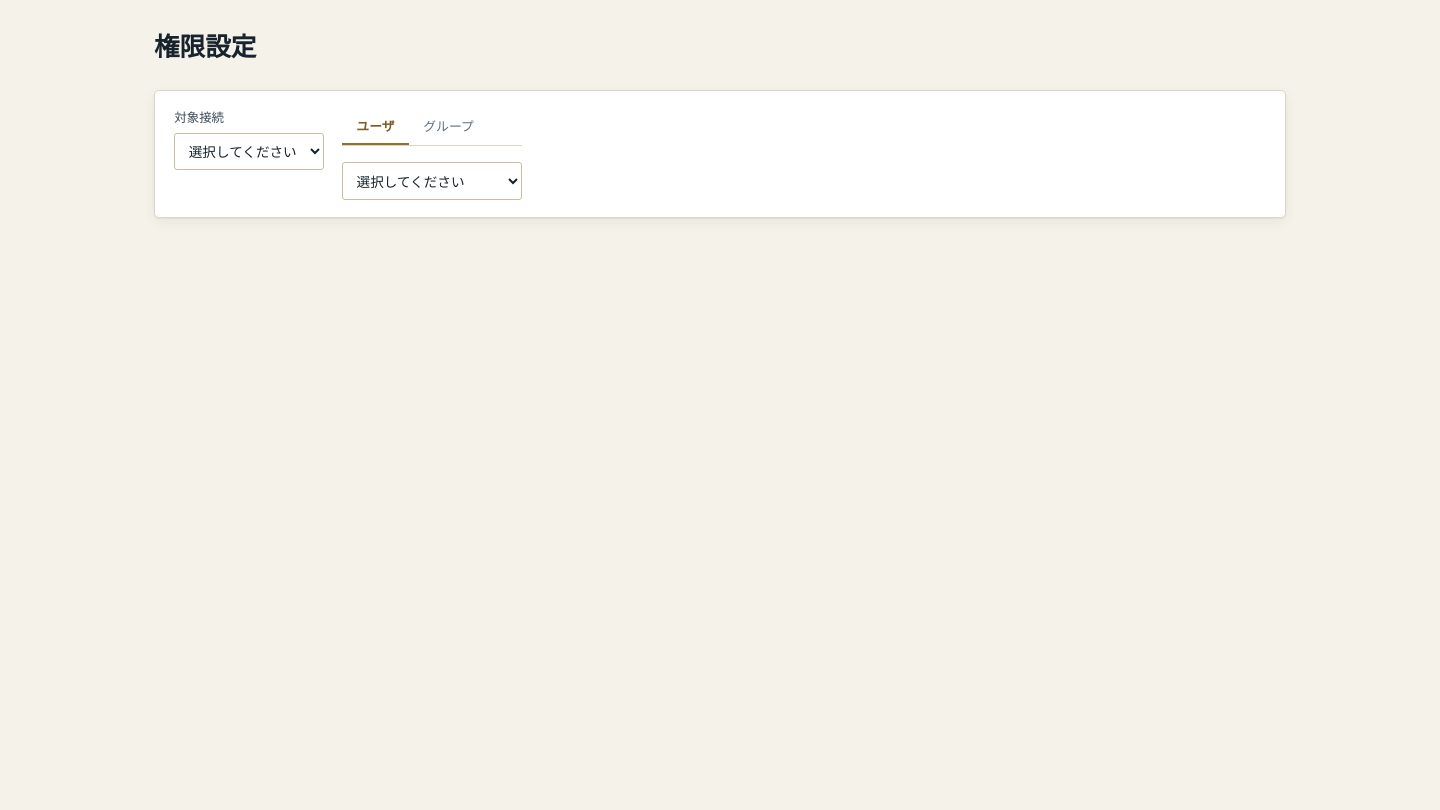
Test: PermissionAssignmentPage › fetches and displays the current permission for the selected principal and node
The image size is (1440, 810).
Select "conn-1" in the dropdown with test id "connection-selector-select" at (249, 152), box [174,133,324,170]
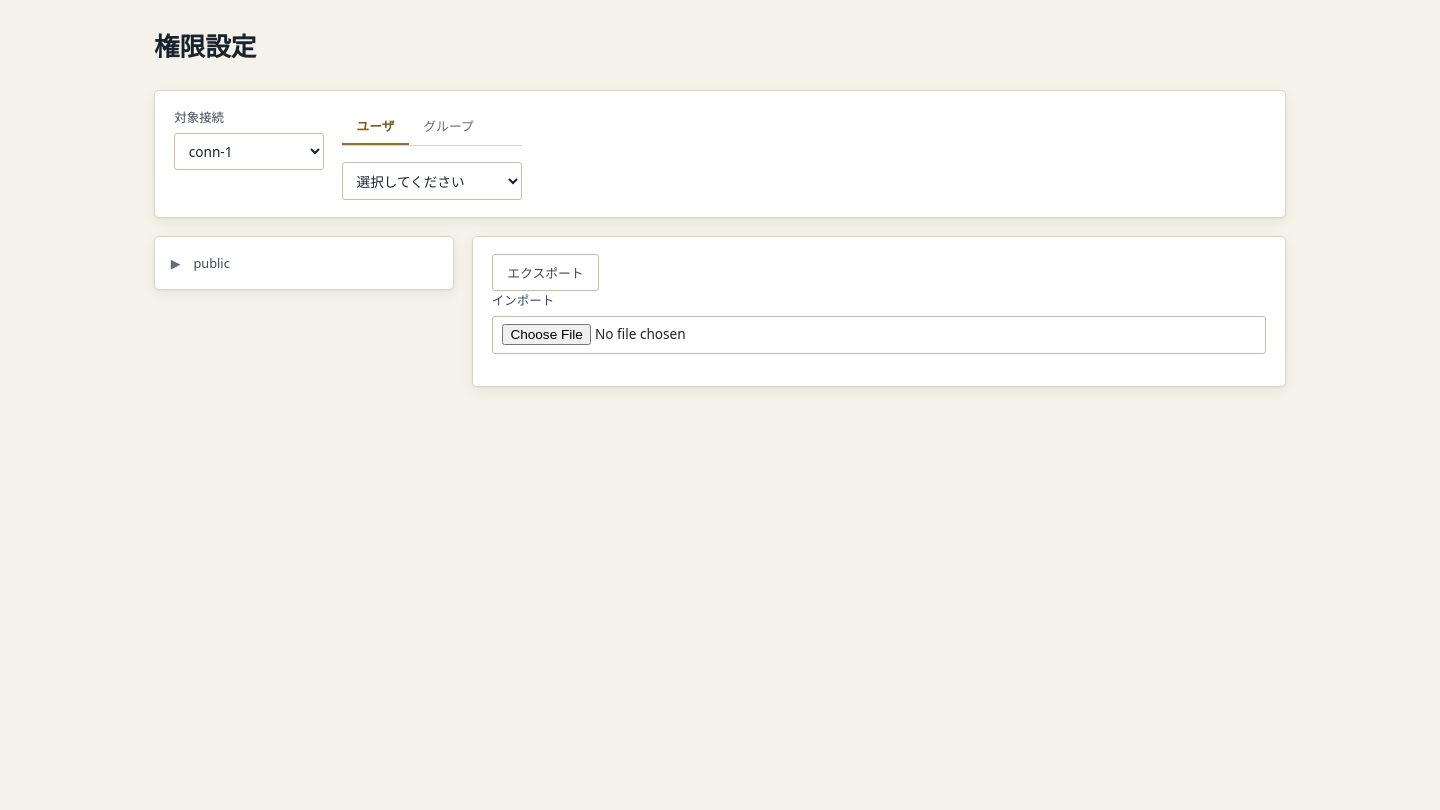
Expected: the list with test id "permission-tree" is shown, [154,236,454,290]
Expected: the button "public" is shown, [187,250,236,277]
Select "user-7@example.com" in the dropdown with test id "principal-selector-user-select" at (432, 181), box [342,162,522,200]
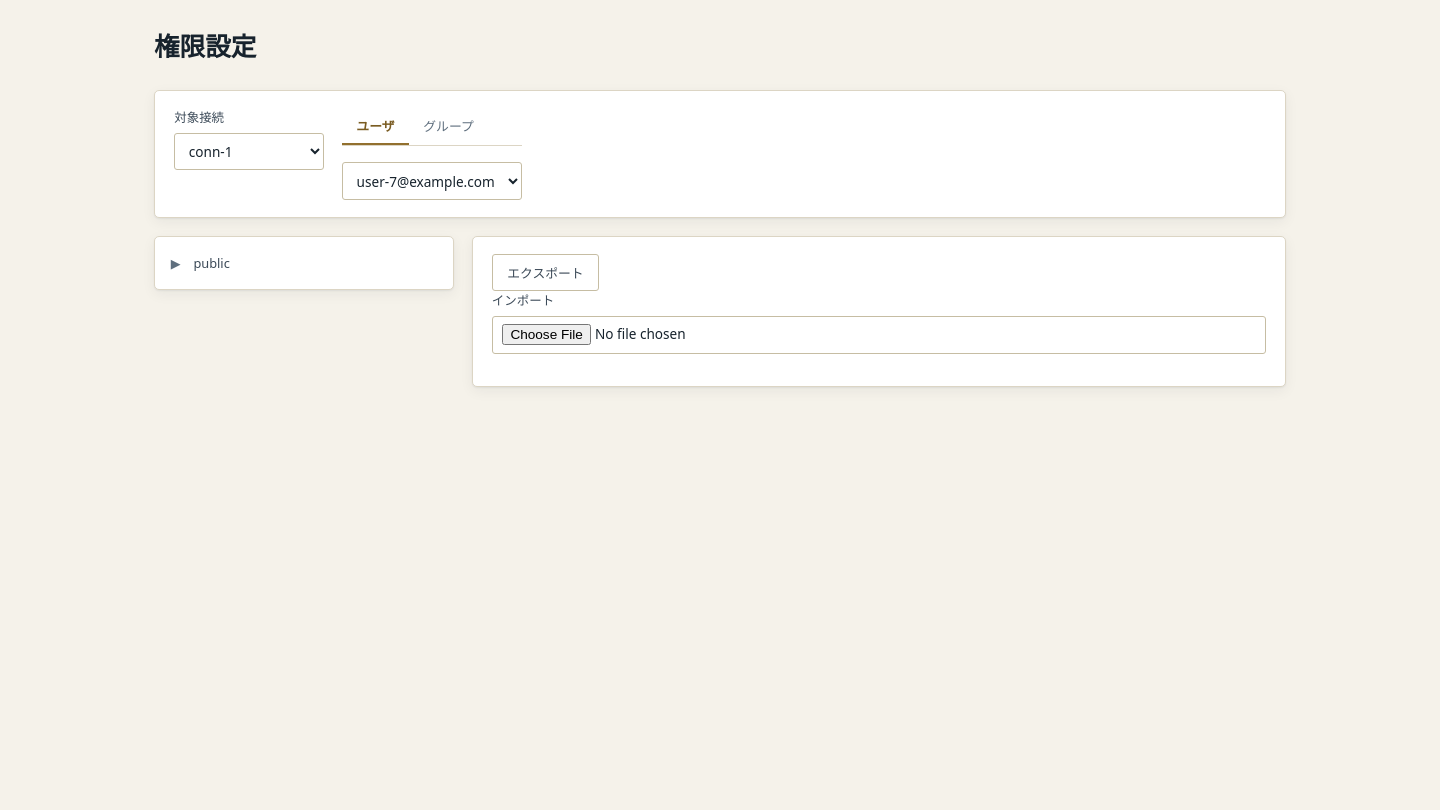
Click the button with test id "permission-tree-schema-select" at (212, 263), box [187,250,236,277]
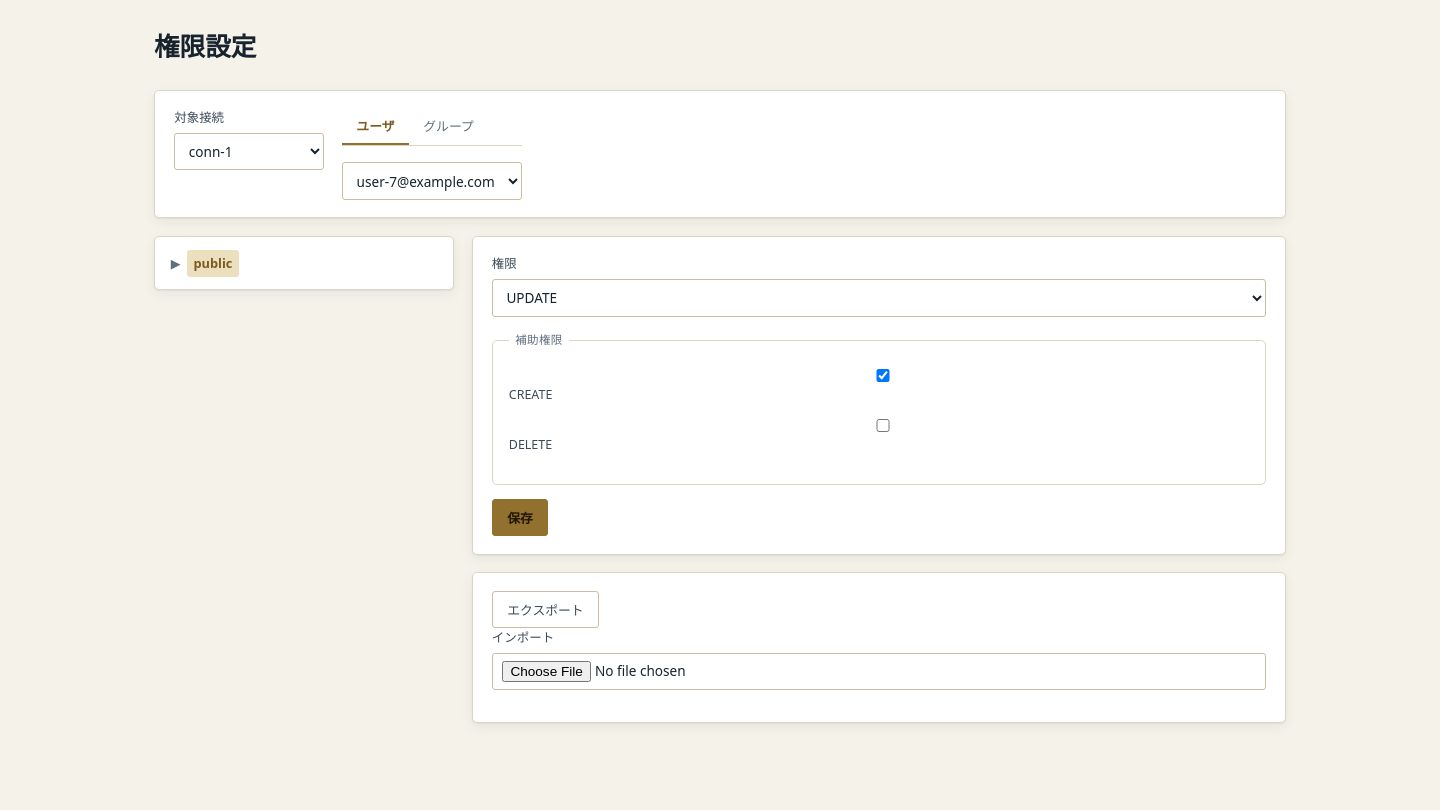
Expected: the form with test id "permission-form" is shown, [472,236,1286,555]
Expected: the dropdown with test id "permission-form-permission-select" shows "UPDATE", [492,279,1266,317]
Expected: the checkbox with test id "permission-form-aux-create-checkbox" is checked, [513,369,1253,382]
